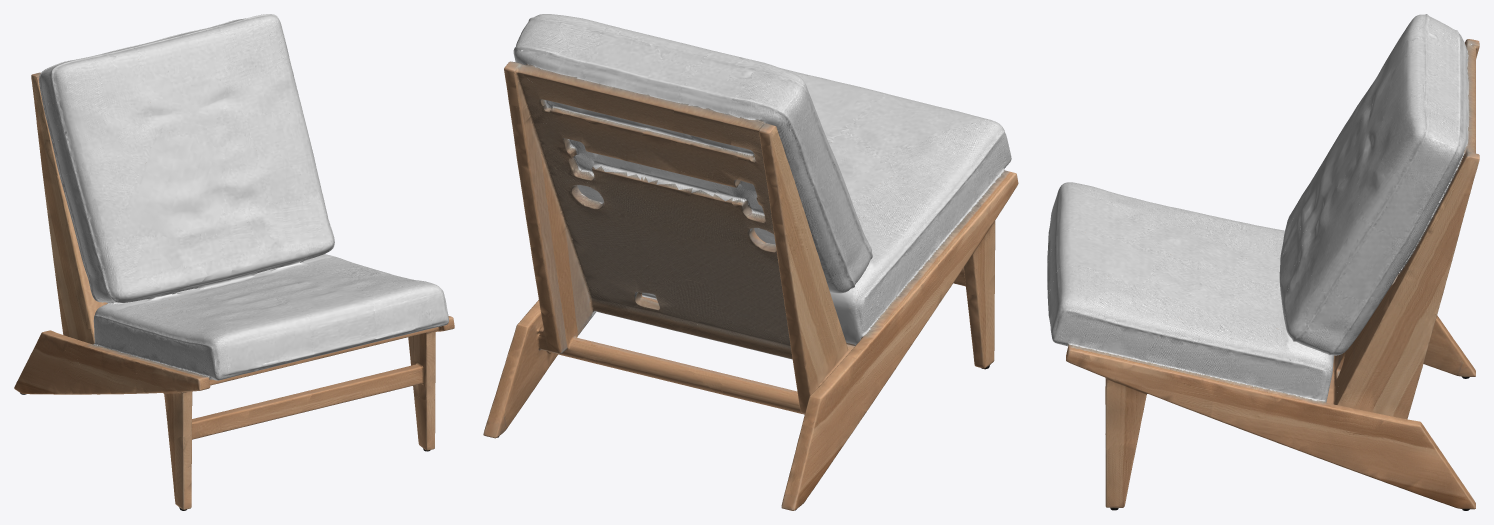
The model's file is stockholm-chair.glb.
3 renders of one model, left to right at view 1: azimuth 30°, elevation 25°; view 2: azimuth 150°, elevation 25°; view 3: azimuth 270°, elevation 25°, orthographic. The views are drawn at different scales.
Visible parts, largest first — view 1: Stockholm_Chair_Web; view 2: Stockholm_Chair_Web; view 3: Stockholm_Chair_Web.
Boxes of the visible parts, x1,y1,x2,y2 form: Stockholm_Chair_Web: (14,14,454,510); Stockholm_Chair_Web: (483,14,1018,510); Stockholm_Chair_Web: (1047,14,1479,510).
Size of the model in its own units: 0.6733 by 0.85 by 0.8879.
3 materials, 3 textured.
